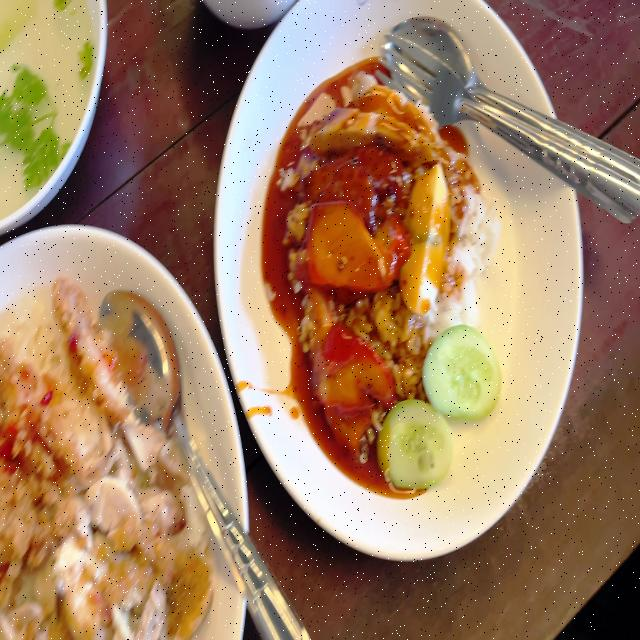boiled_chicken: (62, 414, 206, 640)
boiled_egg: (399, 163, 455, 322)
chainese_sausage: (309, 150, 411, 224)
chicken_rice: (0, 274, 213, 639)
crispy_pork: (302, 81, 448, 163)
cucumber: (425, 325, 501, 420), (381, 398, 453, 485)
fried_chicken: (0, 277, 130, 561)
red_pork: (309, 326, 387, 455), (305, 198, 405, 287)
red_pork_and_crispy_pork: (283, 76, 509, 492)
